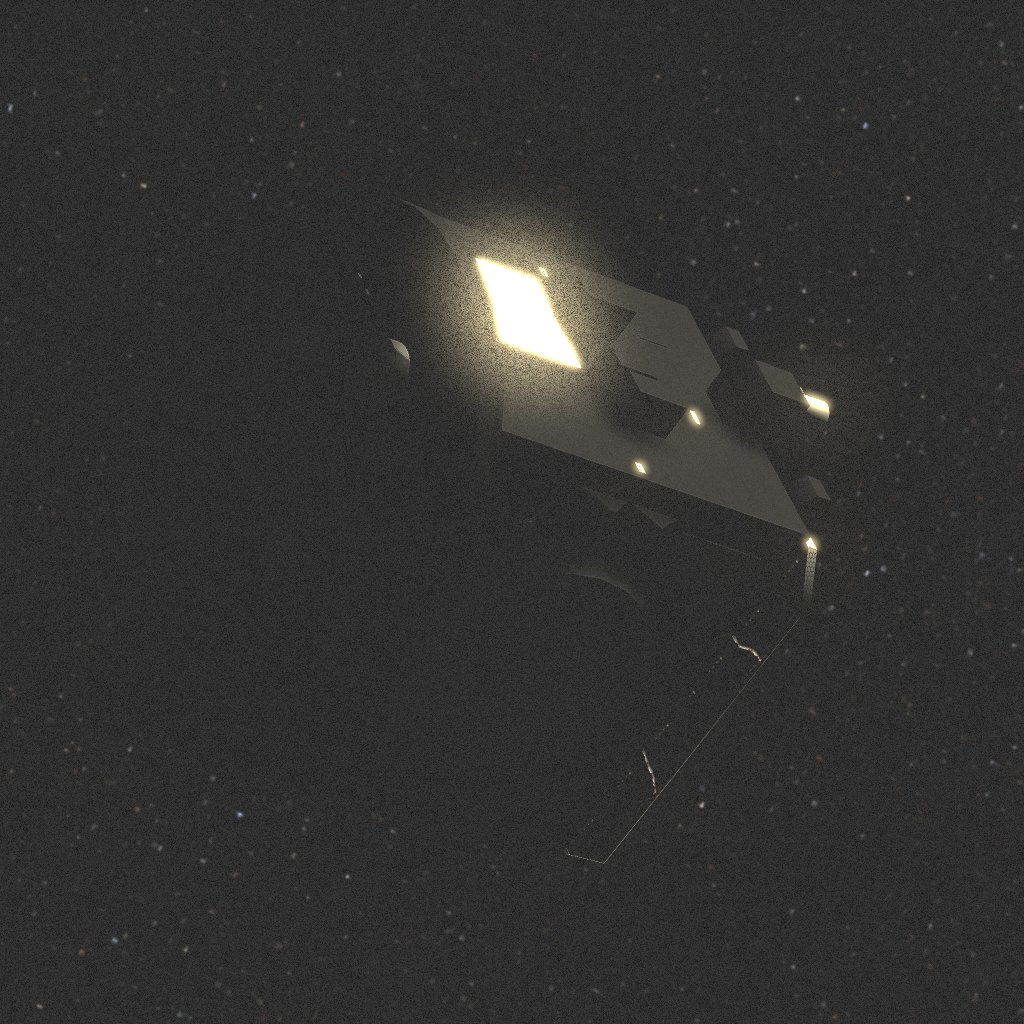proba_3_ocs: (97, 192, 831, 866)
